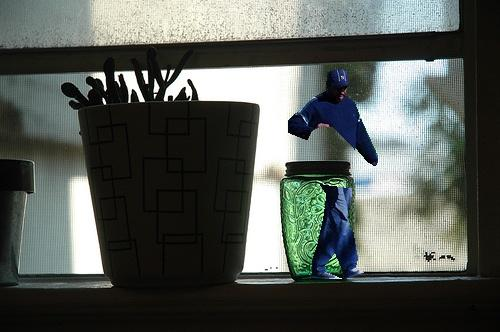tampered: (289, 70, 378, 279)
